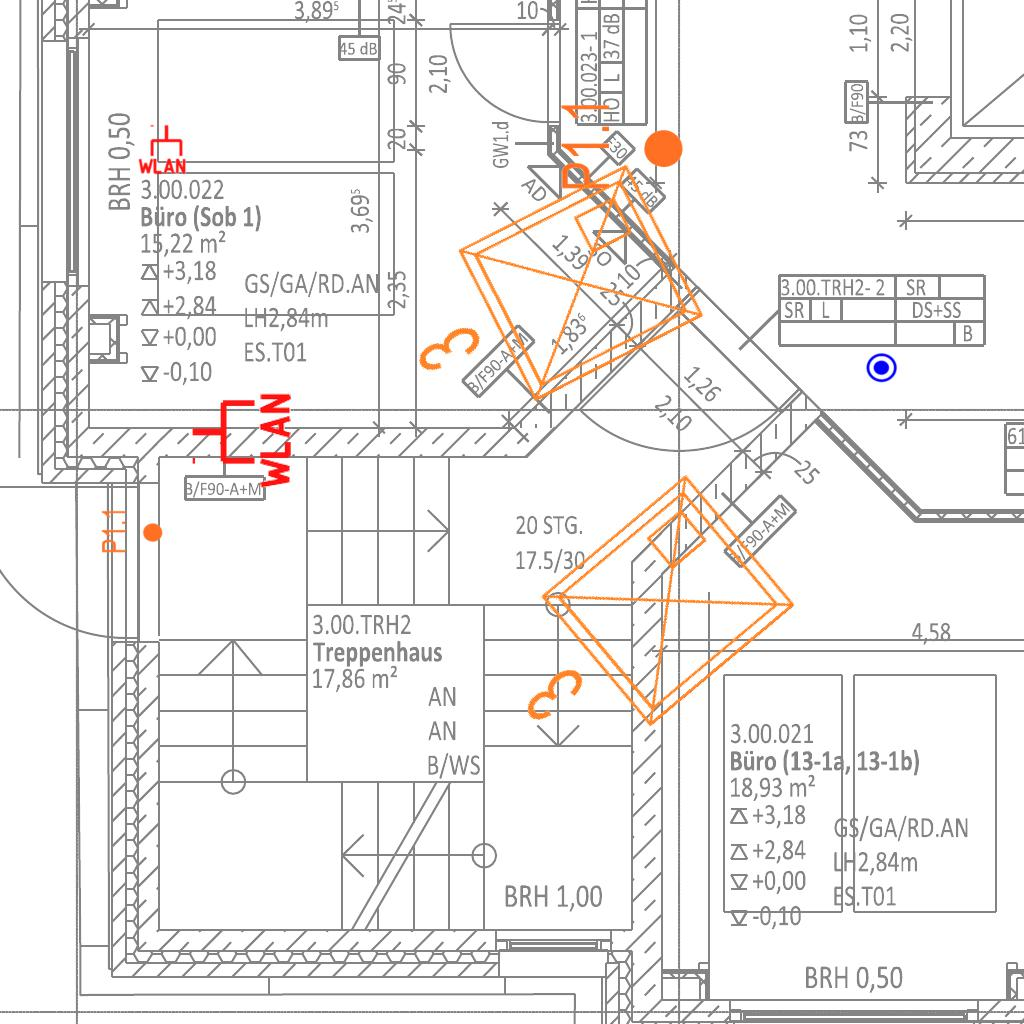Downlight_LED_Einbauleuchten_Flur_2: (558, 99, 686, 192), (100, 508, 164, 554)
Einbaudownlights_LED_Konferenzraeume: (457, 453, 821, 807), (365, 144, 727, 466)
Taster: (865, 350, 898, 383)
WLAN: (188, 389, 293, 493), (136, 123, 188, 175)
